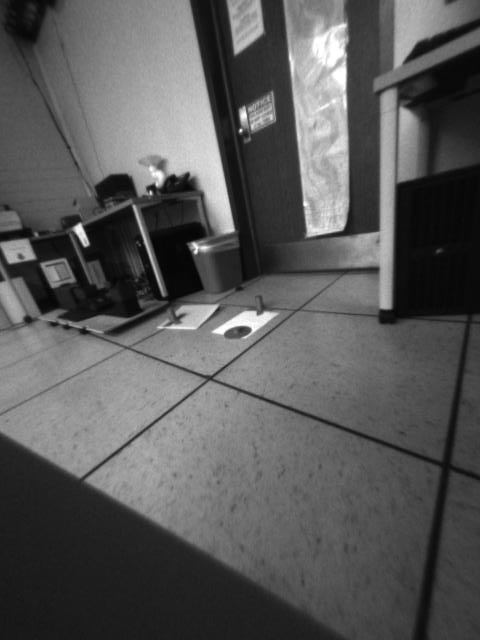X: (247, 292, 273, 315), (165, 309, 187, 328)
